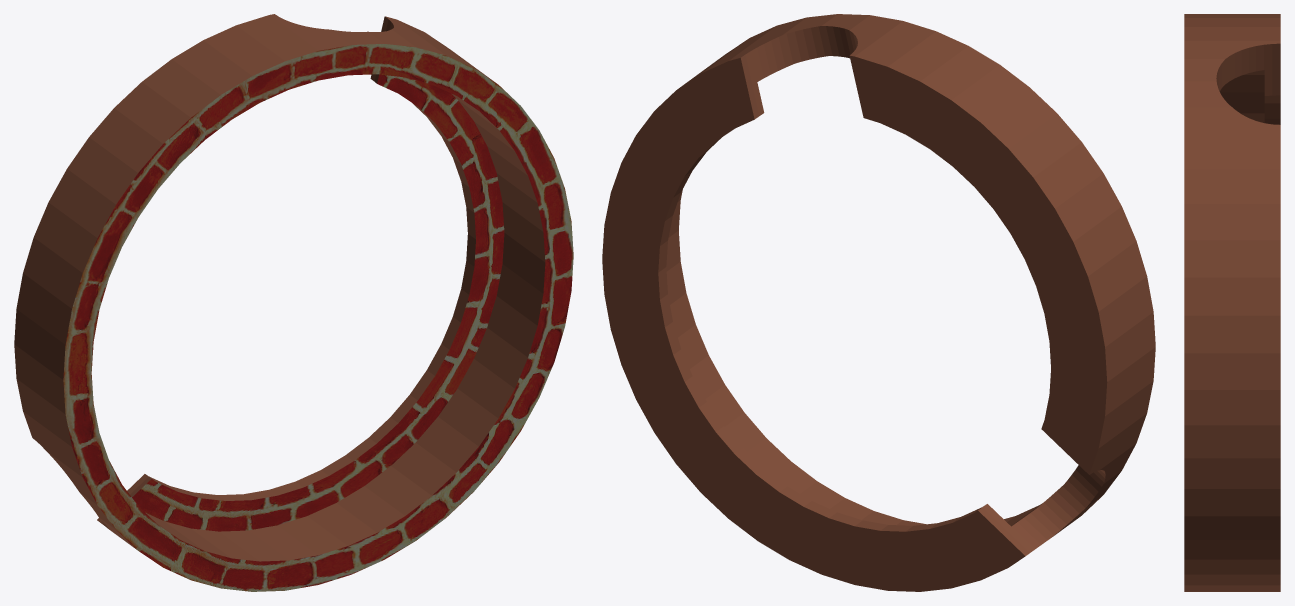
The model's file is pool_031.obj.
3 views of the same model, side by side, from view 1: azimuth 30°, elevation 25°; view 2: azimuth 150°, elevation 25°; view 3: azimuth 270°, elevation 25° (orthographic).
Size of the model in its own units: 18 by 18 by 3.
